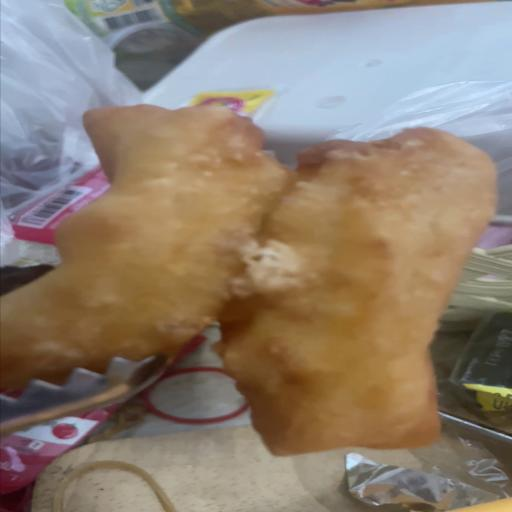street_burnt_defect: (1, 107, 495, 455)
